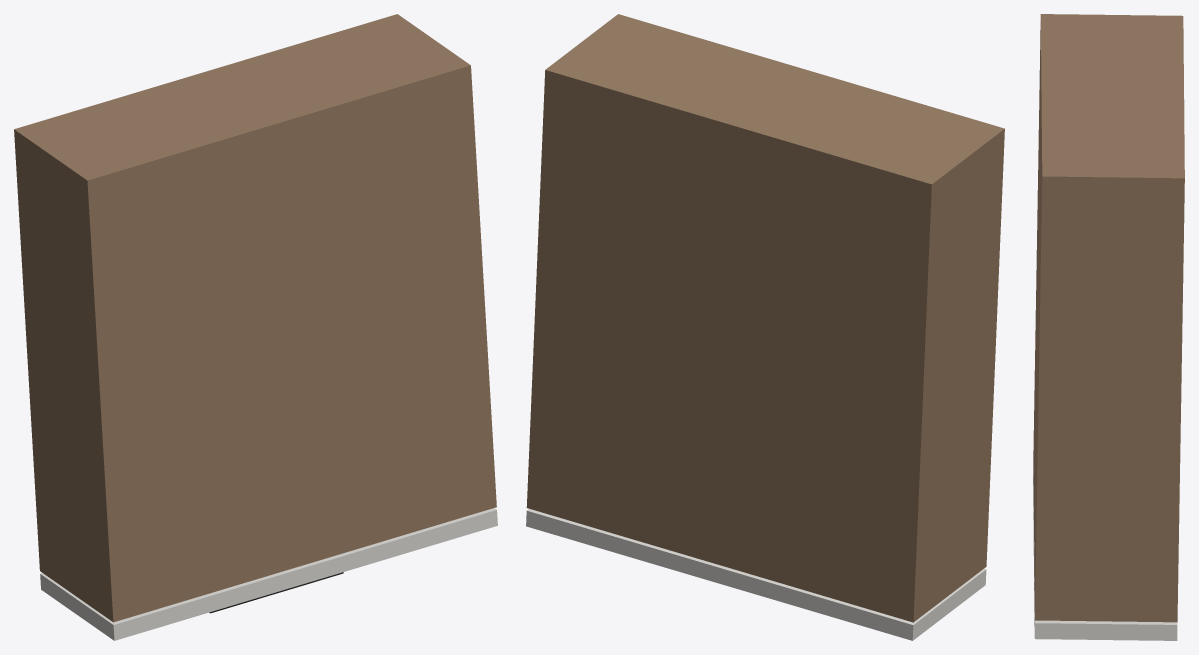
3 views of the same model, side by side, from view 1: azimuth 30°, elevation 25°; view 2: azimuth 150°, elevation 25°; view 3: azimuth 270°, elevation 25° (orthographic). The views are drawn at different scales.
Visible parts, largest first — view 1: cabinet_carcass/0, front_front/1; view 2: cabinet_carcass/0, front_front/1; view 3: cabinet_carcass/0, front_front/1.
Part boxes in pixels (x1,y1,x2,y2): cabinet_carcass/0: (14, 14, 496, 622); front_front/1: (40, 508, 497, 640); cabinet_carcass/0: (526, 14, 1004, 622); front_front/1: (526, 508, 986, 640); cabinet_carcass/0: (1033, 14, 1184, 622); front_front/1: (1033, 471, 1177, 640).
Bounding box in the file's own units: 0.4793 × 0.5752 × 0.1585.
